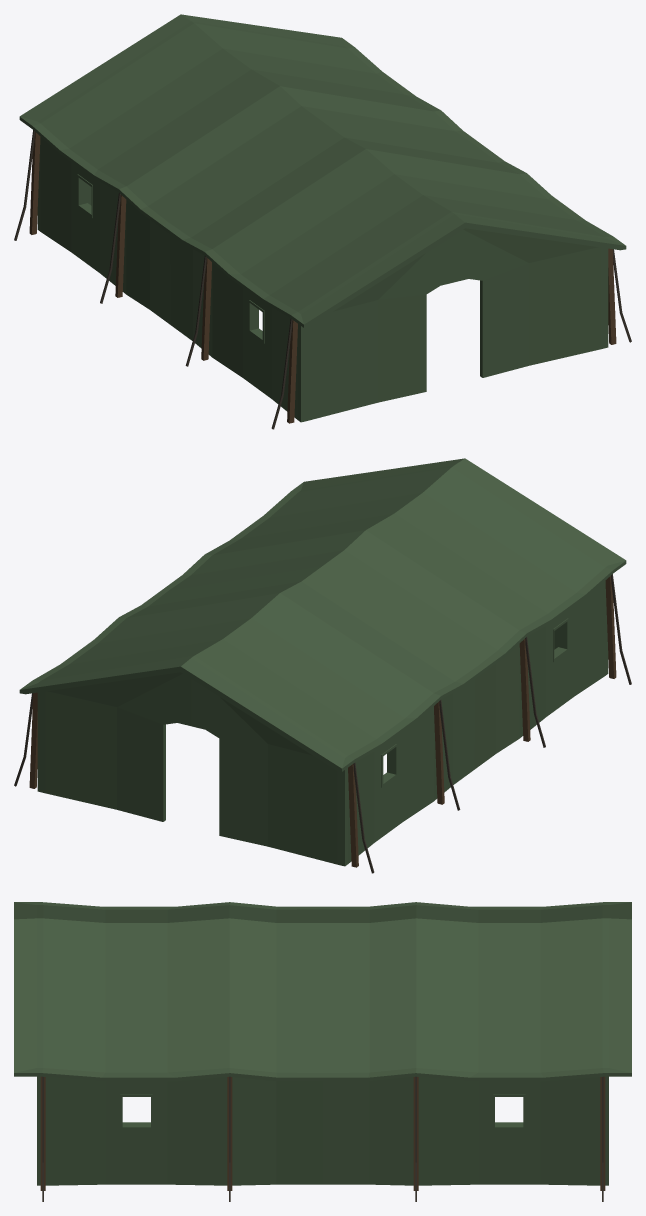
The model's file is militaryTent1.fbx.
3 renders of one model, top to bottom at view 1: azimuth 30°, elevation 25°; view 2: azimuth 150°, elevation 25°; view 3: azimuth 270°, elevation 25°, orthographic. The views are drawn at different scales.
Visible parts, largest first — view 1: Roof, Main; view 2: Roof, Main; view 3: Roof, Main.
Boxes of the visible parts, box(x1,y1,x2,y2) form: Roof: box(19, 14, 626, 327); Main: box(14, 130, 631, 429); Roof: box(19, 458, 626, 771); Main: box(14, 574, 631, 873); Roof: box(14, 902, 631, 1081); Main: box(37, 1076, 608, 1201).
Bounding box in the file's own units: 943 × 436 × 1292.
